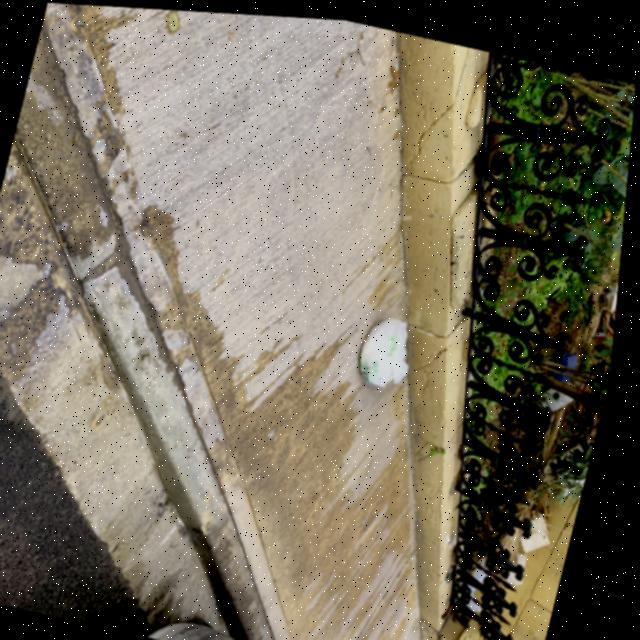Organic Waste -White Bag-: (360, 309, 425, 389)
